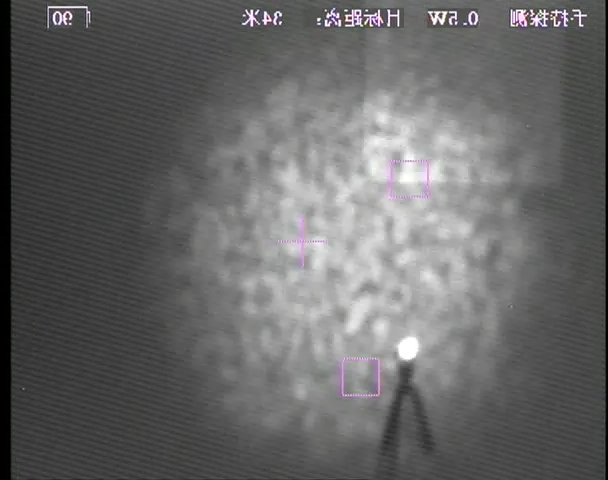my: (396, 335, 420, 361)
